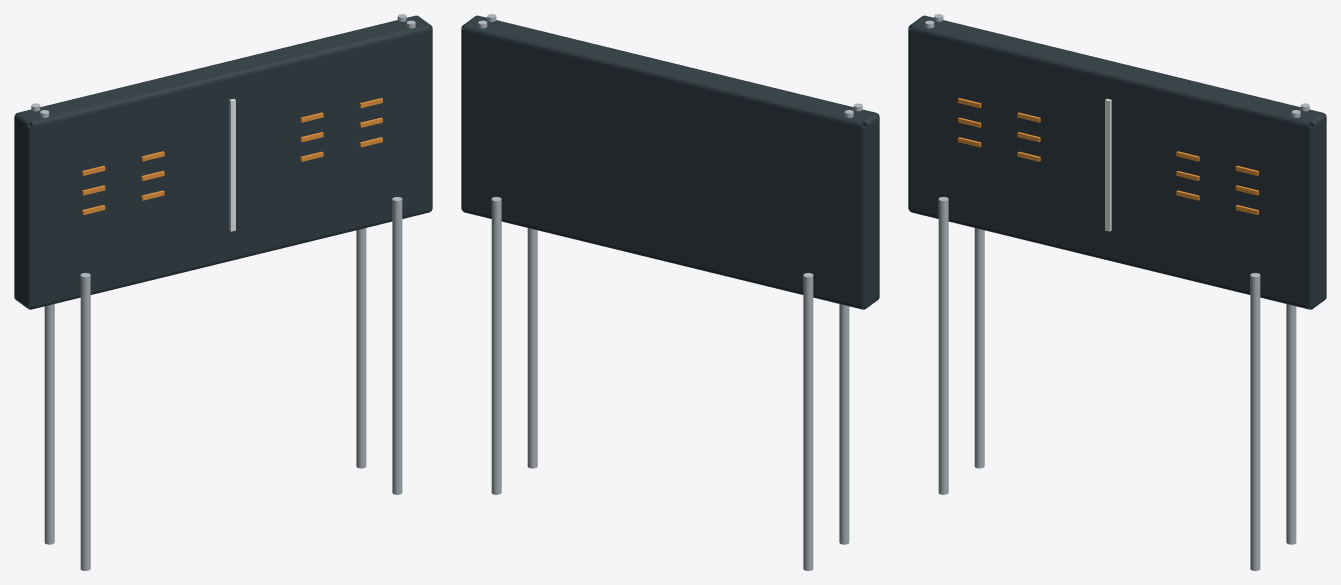
File: basketball-club-and-street-courts-scoreboard-6198d339__28552.glb
3 views of the same model, side by side, from view 1: azimuth 30°, elevation 25°; view 2: azimuth 150°, elevation 25°; view 3: azimuth 330°, elevation 25° (orthographic).
Parts seen in each view (by area): view 1: scoreboard; view 2: scoreboard; view 3: scoreboard.
Boxes of the visible parts, x1,y1,x2,y2 form: scoreboard: [14, 14, 432, 570]; scoreboard: [461, 14, 879, 570]; scoreboard: [908, 14, 1326, 570].
Bounding box in the file's own units: 2.6 × 2.78 × 0.4561.
